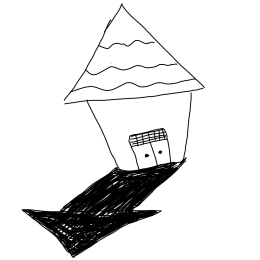door: (124, 126, 179, 173)
roof: (36, 2, 217, 111)
shadow: (17, 155, 195, 258)
wall: (81, 87, 205, 175)
